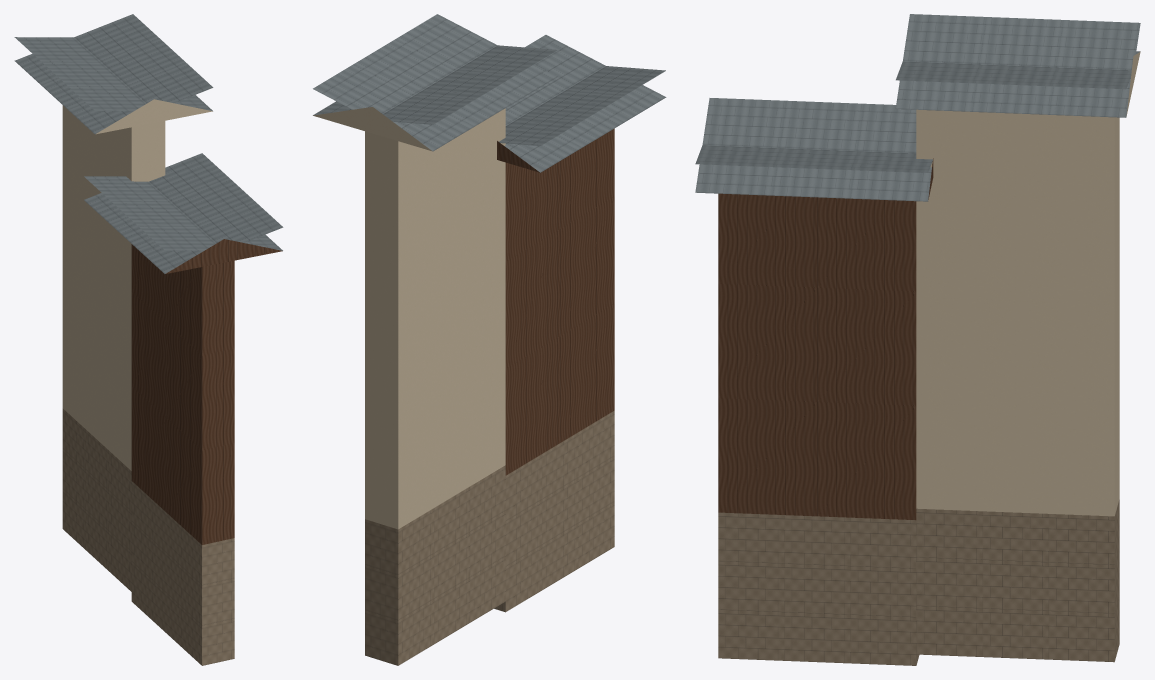
File: bld_c-2_1_536.gltf
3 views of the same model, side by side, from view 1: azimuth 30°, elevation 25°; view 2: azimuth 150°, elevation 25°; view 3: azimuth 270°, elevation 25° (orthographic). The views are drawn at different scales.
Visible parts, largest first — view 1: bld_c-2_1_536; view 2: bld_c-2_1_536; view 3: bld_c-2_1_536.
Part boxes in pixels (x1,y1,x2,y2): bld_c-2_1_536: (14, 14, 283, 665); bld_c-2_1_536: (313, 14, 666, 665); bld_c-2_1_536: (695, 14, 1140, 665).
Bounding box in the file's own units: 6.22 × 21.3 × 14.12.
6 materials, 6 textured.
